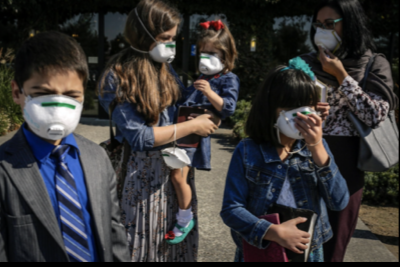with_mask: (19, 81, 83, 140), (275, 102, 314, 141), (310, 15, 341, 53), (146, 30, 175, 64), (196, 47, 222, 75)
